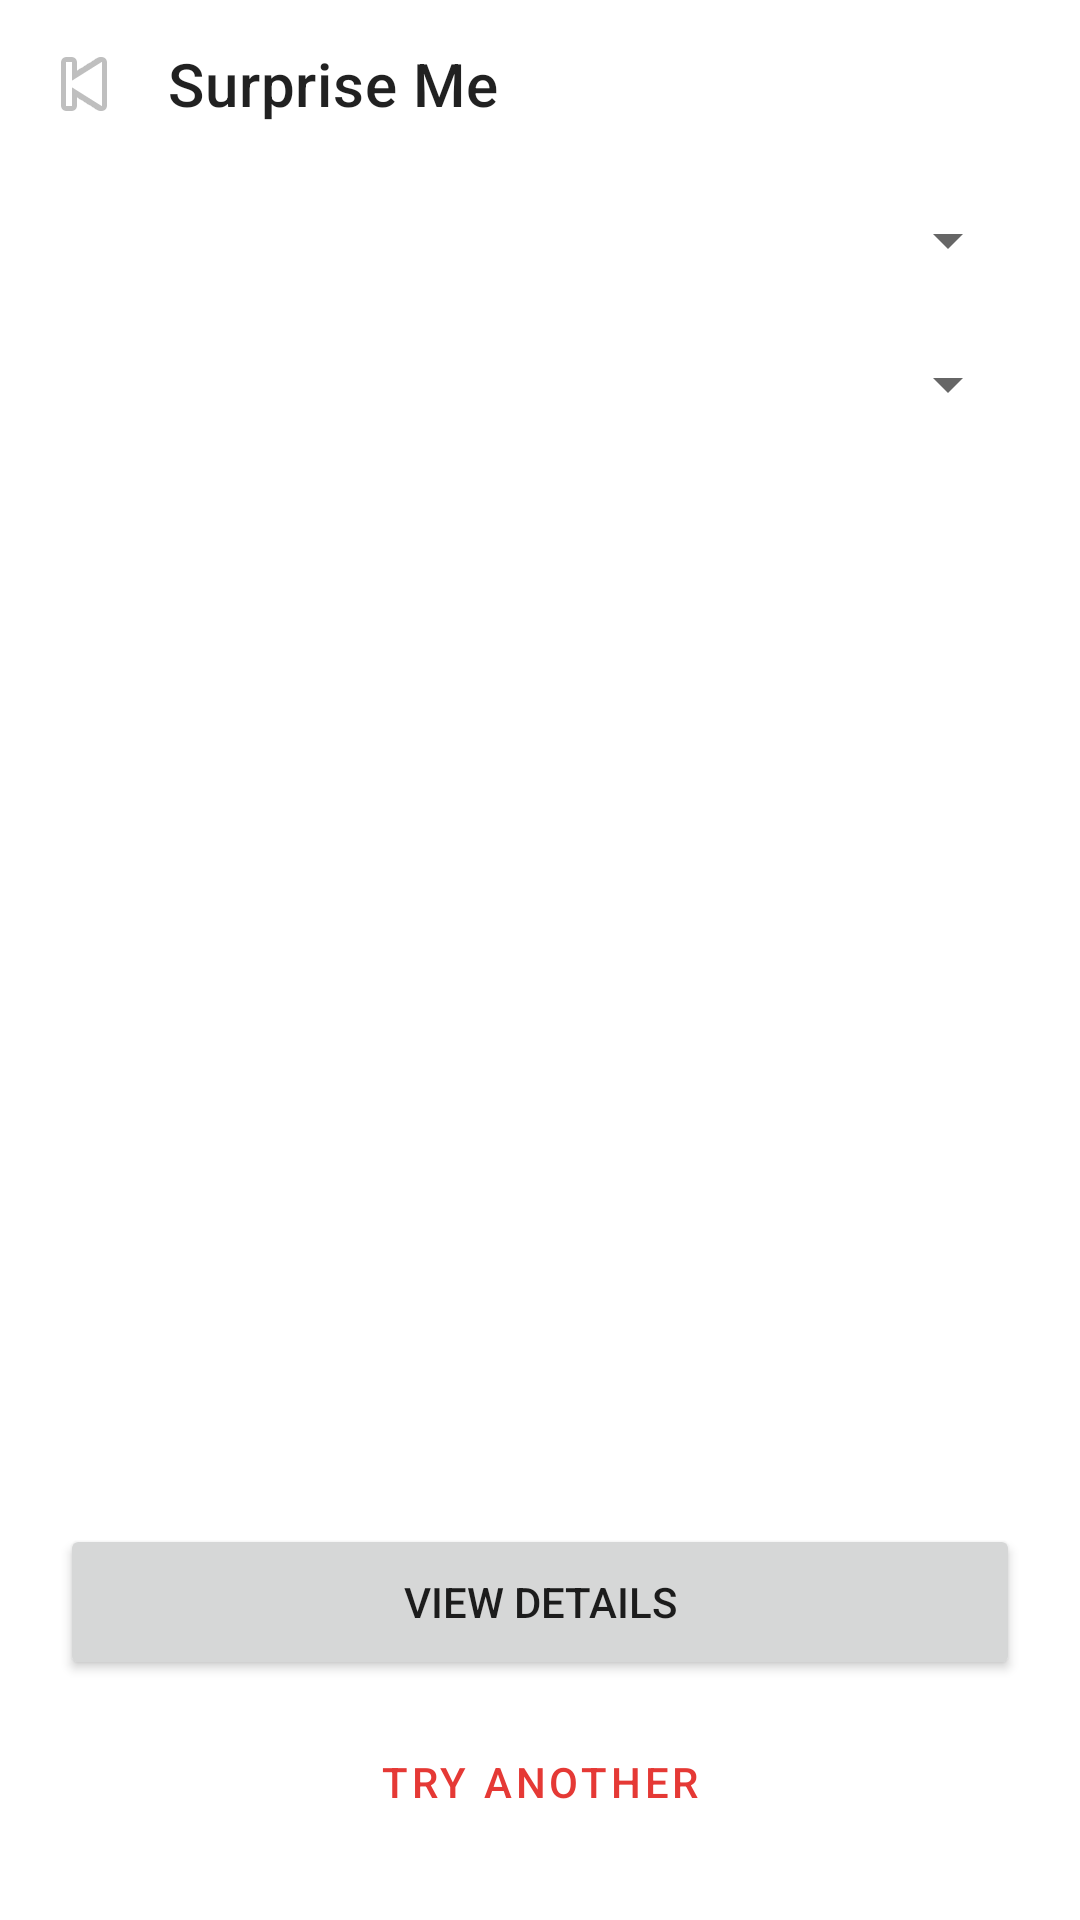

Named icons in this screenshot (1080w x 1920h) and their bounding boxes, region(x1, y1, x2, y2):
Back: region(61, 57, 107, 111)
